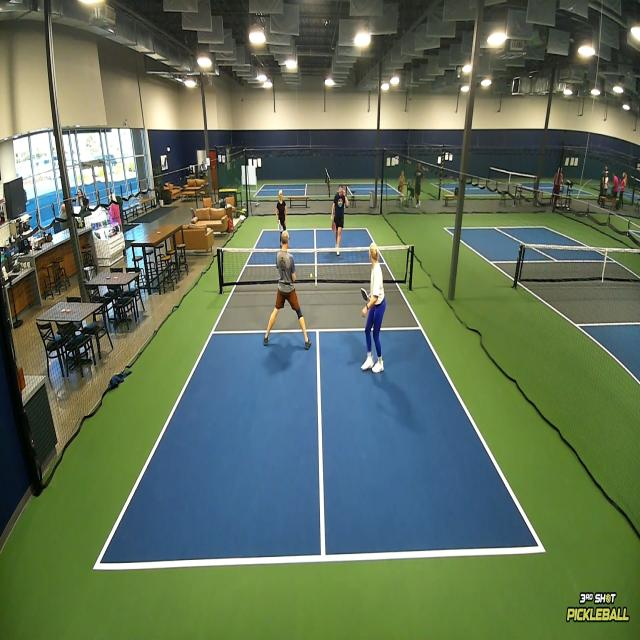Pickleball: (309, 272, 313, 279)
